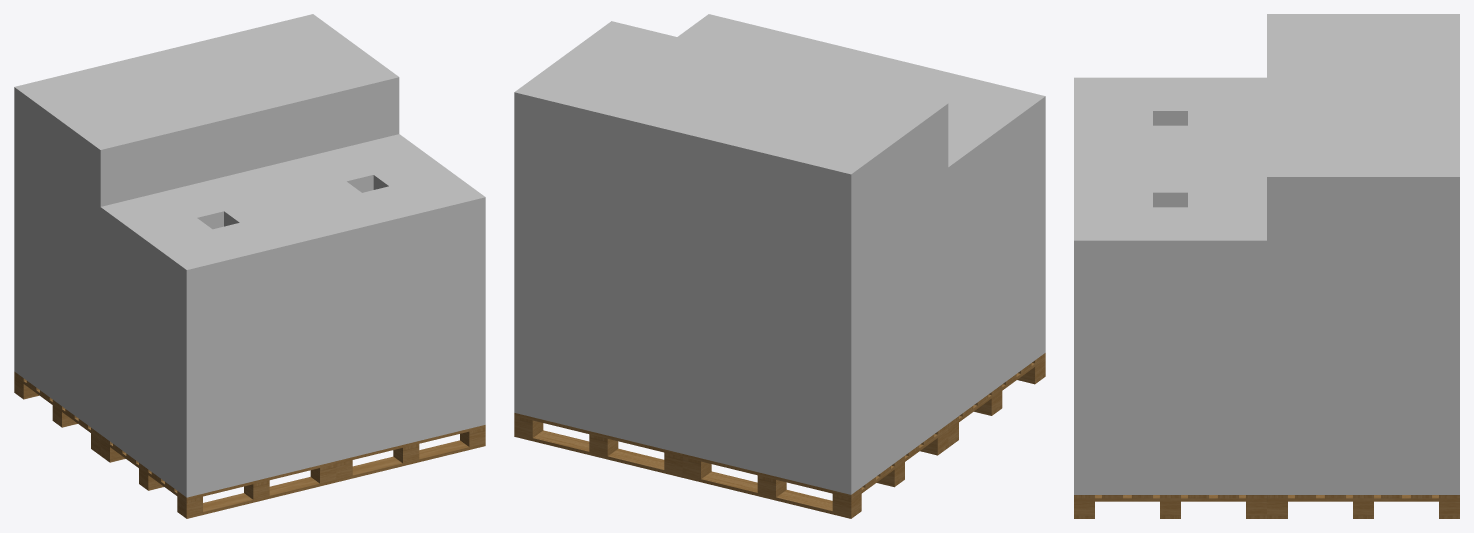
File: OB_LuggagePallet4.fbx
3 renders of one model, left to right at view 1: azimuth 30°, elevation 25°; view 2: azimuth 150°, elevation 25°; view 3: azimuth 270°, elevation 25°, orthographic. The views are drawn at different scales.
Parts seen in each view (by area): view 1: pCube106, pCube111, pCube110; view 2: pCube111, pCube106, pCube110; view 3: pCube111, pCube106, pCube110.
Part boxes in pixels (<box>): pCube106: <box>100,134,485,497</box>; pCube111: <box>14,14,399,434</box>; pCube110: <box>14,371,485,518</box>; pCube111: <box>514,21,948,494</box>; pCube106: <box>677,14,1045,423</box>; pCube110: <box>514,353,1045,518</box>; pCube111: <box>1267,14,1459,494</box>; pCube106: <box>1074,77,1266,494</box>; pCube110: <box>1074,495,1459,518</box>.
Bounding box in the file's own units: 220 × 215 × 220.
